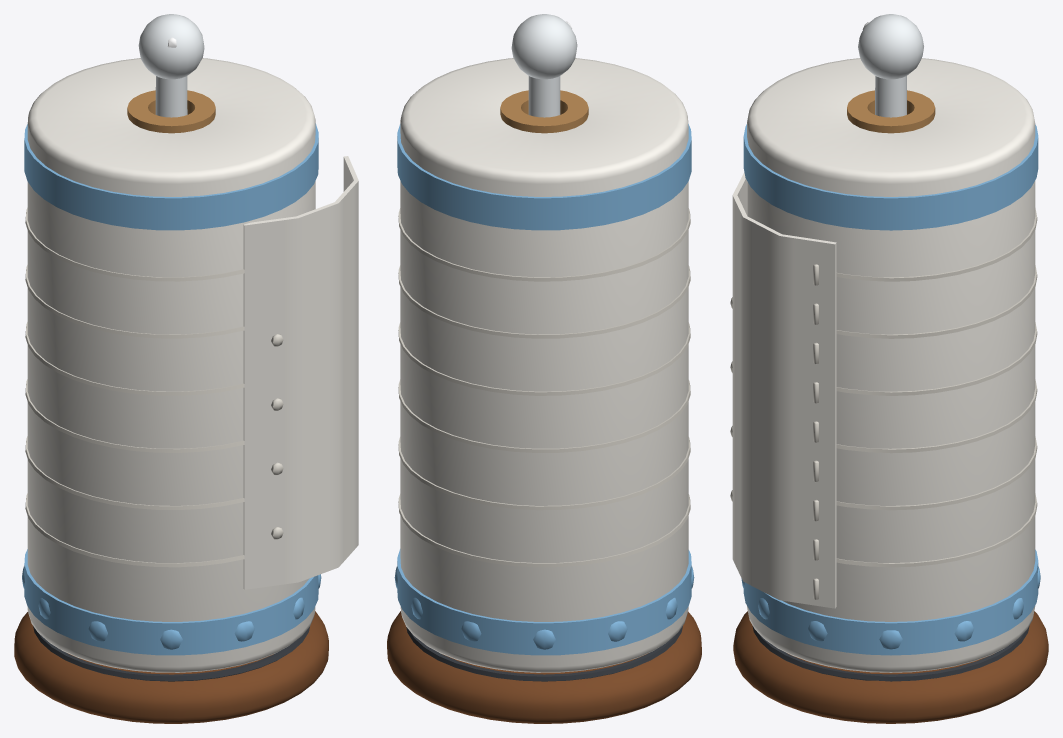
Rendered from paper_towel_roll.glb.
3 renders of one model, left to right at view 1: azimuth 30°, elevation 25°; view 2: azimuth 150°, elevation 25°; view 3: azimuth 270°, elevation 25°, orthographic.
Visible parts, largest first — view 1: PaperTowelRoll; view 2: PaperTowelRoll; view 3: PaperTowelRoll.
Boxes of the visible parts, x1,y1,x2,y2 form: PaperTowelRoll: (14,14,358,723); PaperTowelRoll: (387,14,701,723); PaperTowelRoll: (730,14,1048,723).
Bounding box in the file's own units: 4.18 × 9.02 × 4.04.
